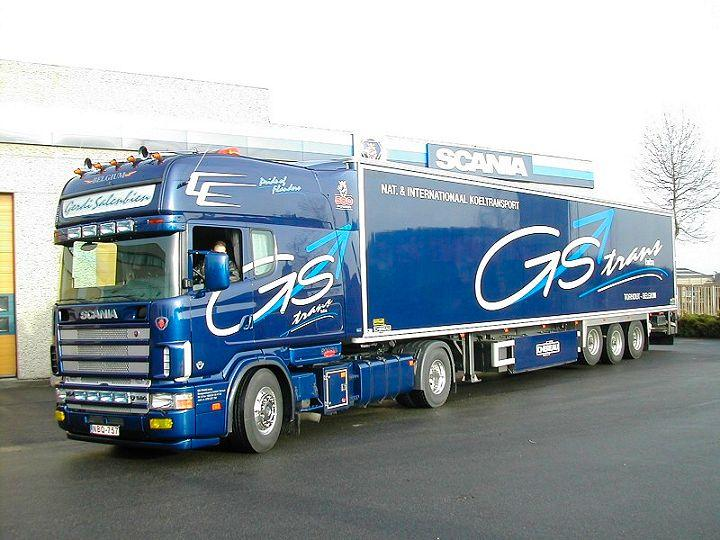truck: (48, 143, 679, 456)
